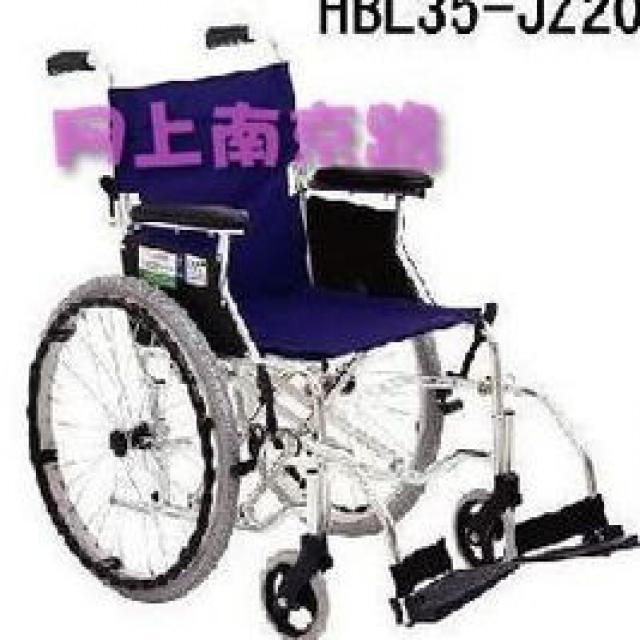wheelchair: (24, 23, 638, 632)
